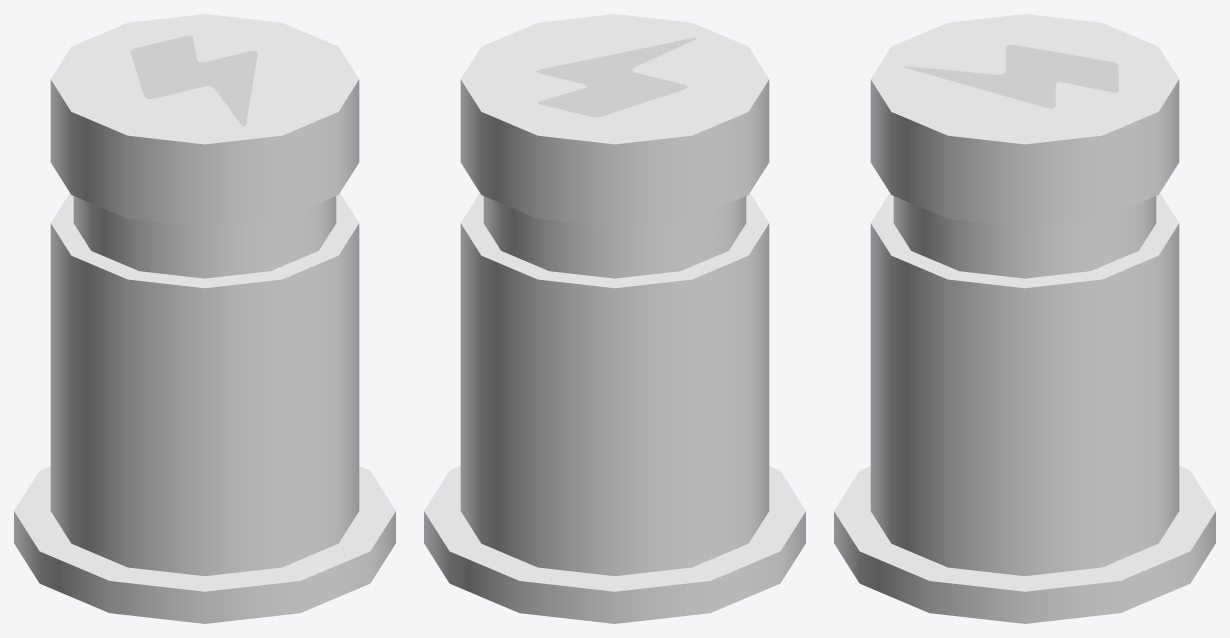
File: Energy_battary.fbx
The picture shows the model from 3 angles, left to right: view 1: azimuth 30°, elevation 25°; view 2: azimuth 150°, elevation 25°; view 3: azimuth 270°, elevation 25°; orthographic projection.
Parts seen in each view (by area): view 1: Cylinder; view 2: Cylinder; view 3: Cylinder.
Part boxes in pixels (x1,y1,x2,y2): Cylinder: (14,14,395,623); Cylinder: (424,14,805,623); Cylinder: (834,14,1215,623).
Bounding box in the file's own units: 1.88 × 2.54 × 1.88.
